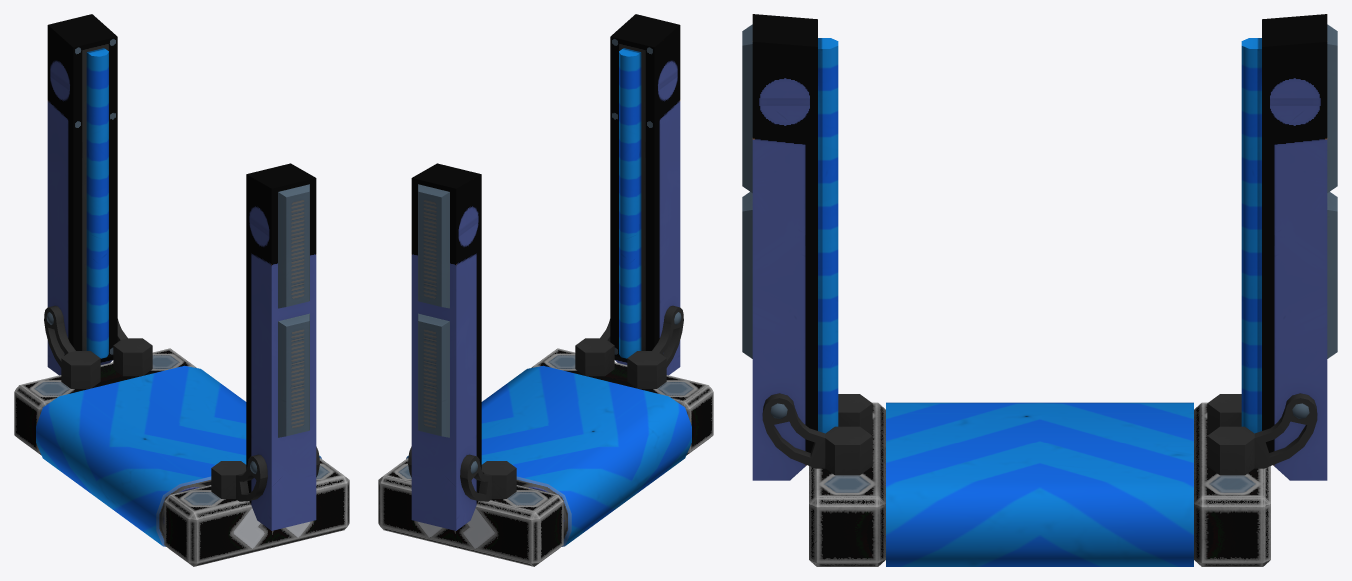
File: obj_factory_upgrader_02.fbx
3 views of the same model, side by side, from view 1: azimuth 30°, elevation 25°; view 2: azimuth 150°, elevation 25°; view 3: azimuth 270°, elevation 25° (orthographic). The views are drawn at different scales.
Visible parts, largest first — view 1: obj_upgraderpart_base_lp, Small Belt; view 2: obj_upgraderpart_base_lp, Small Belt; view 3: obj_upgraderpart_base_lp, Small Belt.
Part boxes in pixels (x1,y1,x2,y2): obj_upgraderpart_base_lp: (44,14,319,530); Small Belt: (14,348,349,566); obj_upgraderpart_base_lp: (408,14,683,530); Small Belt: (378,348,713,566); obj_upgraderpart_base_lp: (742,14,1337,480); Small Belt: (809,402,1270,566).
Size of the model in its own units: 3.3 by 7.15 by 7.73.
